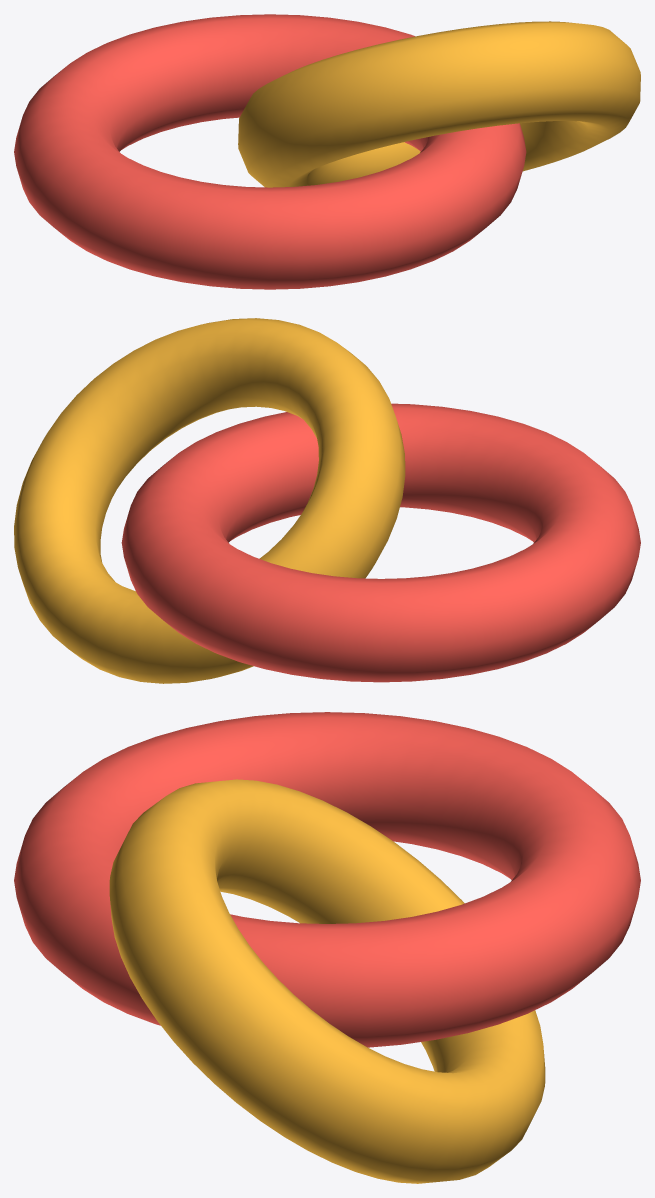
Rendered from Anelli.glb.
The picture shows the model from 3 angles, top to bottom: view 1: azimuth 30°, elevation 25°; view 2: azimuth 150°, elevation 25°; view 3: azimuth 270°, elevation 25°; orthographic projection. The views are drawn at different scales.
Visible parts, largest first — view 1: Anello grande, Anello piccolo; view 2: Anello grande, Anello piccolo; view 3: Anello grande, Anello piccolo.
Part boxes in pixels (box(x1,y1,x2,y2)): Anello grande: box(14, 14, 526, 289); Anello piccolo: box(238, 21, 640, 187); Anello grande: box(121, 403, 640, 682); Anello piccolo: box(14, 318, 405, 683); Anello grande: box(14, 712, 640, 1047); Anello piccolo: box(109, 779, 545, 1183).
Size of the model in its own units: 0.1598 by 0.0702 by 0.125.
